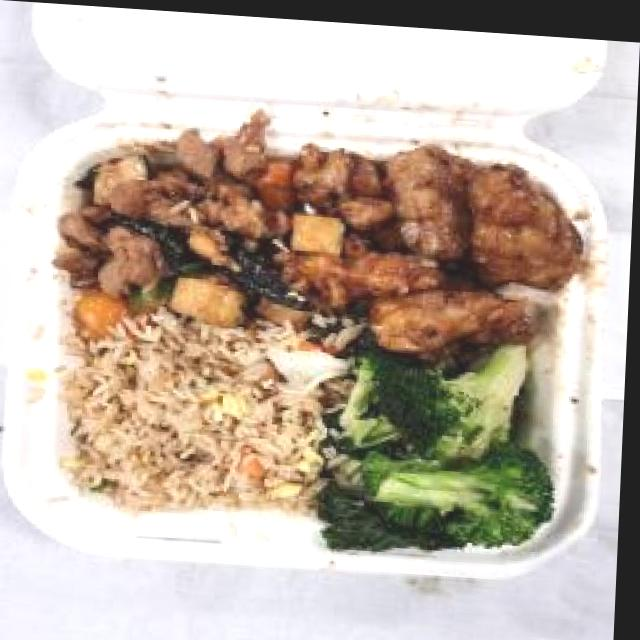Fried Rice: (59, 307, 344, 525)
Kung Pao Chicken: (49, 111, 356, 342)
Super Greens: (311, 329, 569, 560)
The Original Orange Chicken: (265, 130, 591, 364)
